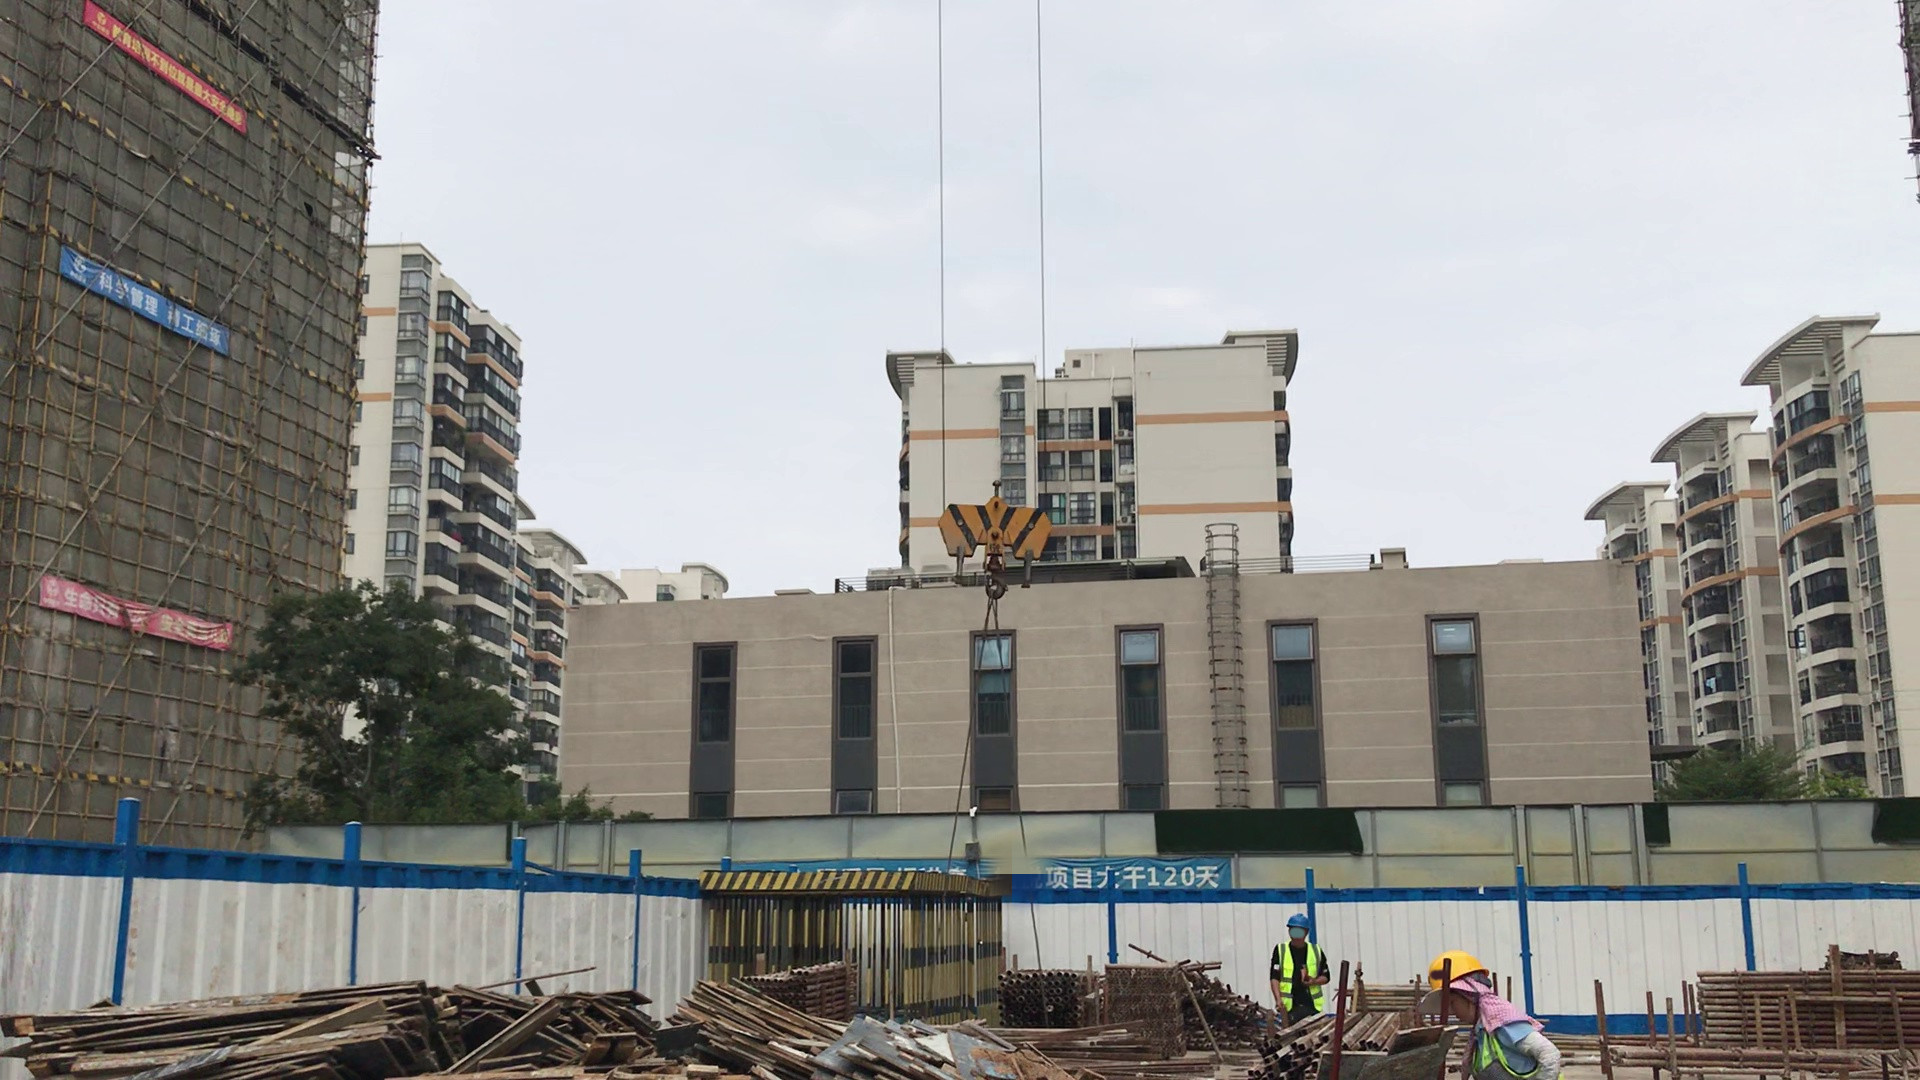board: (37, 984, 427, 1080), (443, 959, 642, 1080), (672, 965, 841, 1080)
helmet: (1426, 950, 1499, 992), (1282, 913, 1318, 931)
hook: (927, 485, 1065, 617)
person: (1419, 945, 1574, 1080), (1267, 913, 1331, 1014)
scaffold: (1690, 947, 1883, 1062), (994, 958, 1094, 1037), (742, 954, 860, 1018)
slogan: (29, 534, 263, 691), (66, 6, 271, 157), (51, 236, 254, 353), (1028, 839, 1244, 900)
vest: (1465, 1021, 1549, 1080), (1276, 939, 1326, 1015)
